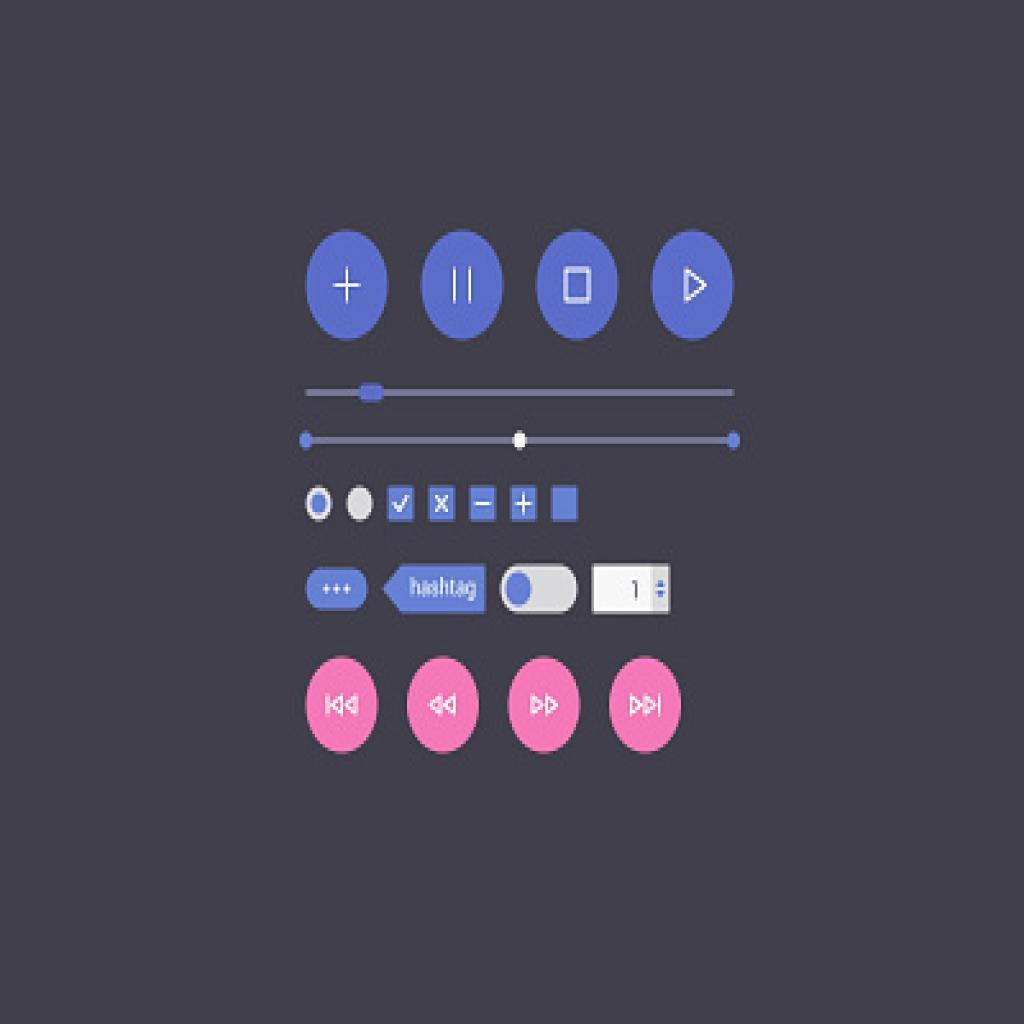checkbox: (387, 484, 416, 523)
icon: (330, 264, 367, 311), (678, 264, 711, 305), (627, 691, 667, 723), (323, 691, 363, 722), (528, 693, 562, 722), (427, 691, 460, 719), (317, 580, 359, 600), (565, 270, 588, 303)
radio: (302, 482, 338, 531), (344, 481, 377, 531)
slider: (301, 364, 748, 414), (293, 420, 758, 468)
switch: (502, 561, 581, 618)
